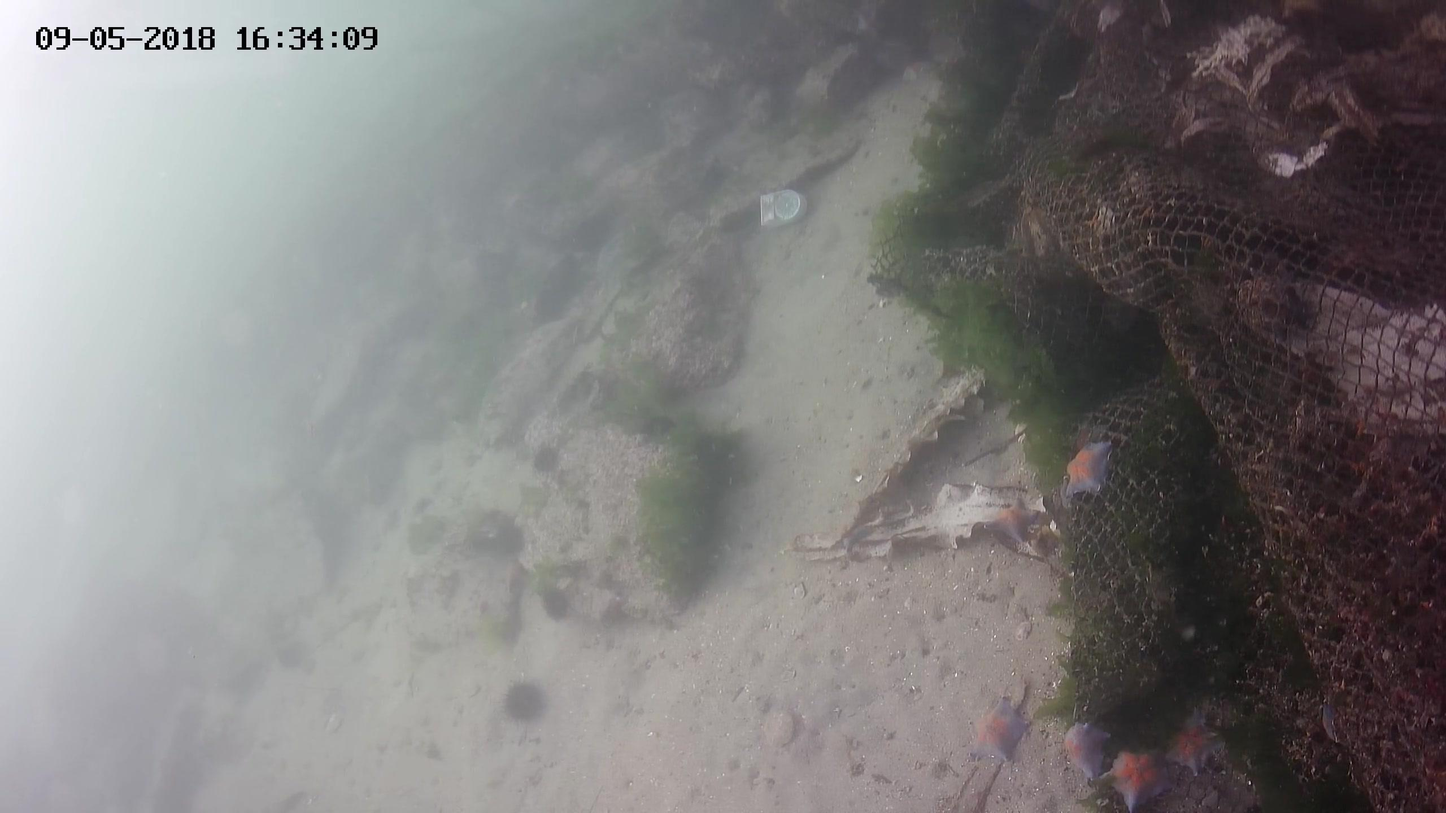holothurian: (1107, 746, 1165, 811), (967, 700, 1030, 757), (1060, 442, 1108, 499), (1062, 719, 1110, 775), (989, 497, 1039, 545), (1169, 728, 1221, 773)
scallop: (761, 709, 798, 748)
starfish: (501, 677, 544, 720), (540, 585, 570, 619), (527, 443, 558, 470)
